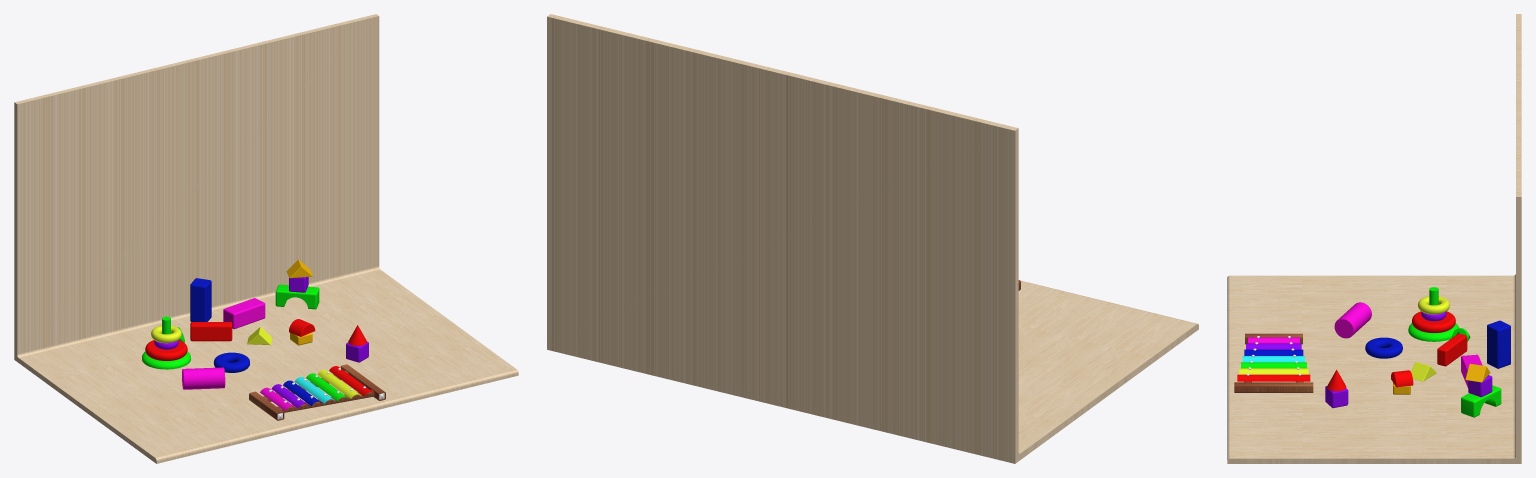
Rendered from scn_osnova.FBX.
3 renders of one model, left to right at view 1: azimuth 30°, elevation 25°; view 2: azimuth 150°, elevation 25°; view 3: azimuth 270°, elevation 25°, orthographic. The views are drawn at different scales.
Parts seen in each view (by area): view 1: Box001, Box003, Cylinder001, Box013, Box005, Box010, Box007, Circle011, Loft002, Loft001; view 2: Box001; view 3: Box001, Box003, Box013, Cylinder001, Box007, Box010, Loft002, Circle011, Loft001, Object001, Object002, Object003 (+11 smaller).
Boxes of the visible parts, left/top/right/bottom form: Box001: left=14, top=14, right=518, bottom=463; Box003: left=249, top=364, right=385, bottom=420; Cylinder001: left=182, top=367, right=225, bottom=389; Box013: left=190, top=278, right=211, bottom=321; Box005: left=223, top=298, right=265, bottom=329; Box010: left=190, top=322, right=232, bottom=341; Box007: left=275, top=284, right=319, bottom=309; Circle011: left=142, top=316, right=190, bottom=369; Loft002: left=213, top=352, right=249, bottom=372; Loft001: left=145, top=340, right=187, bottom=360; Box001: left=547, top=14, right=1198, bottom=463; Box001: left=1227, top=14, right=1521, bottom=463; Box003: left=1234, top=333, right=1313, bottom=392; Box013: left=1487, top=320, right=1510, bottom=368; Cylinder001: left=1334, top=302, right=1371, bottom=338; Box007: left=1461, top=385, right=1501, bottom=417; Box010: left=1437, top=333, right=1467, bottom=366; Loft002: left=1365, top=337, right=1402, bottom=358; Circle011: left=1408, top=287, right=1458, bottom=341; Loft001: left=1412, top=311, right=1455, bottom=332; Object001: left=1237, top=374, right=1310, bottom=381; Object002: left=1239, top=368, right=1308, bottom=374; Object003: left=1241, top=362, right=1306, bottom=368.
Bounding box in the file's own units: 150 × 102 × 102.
